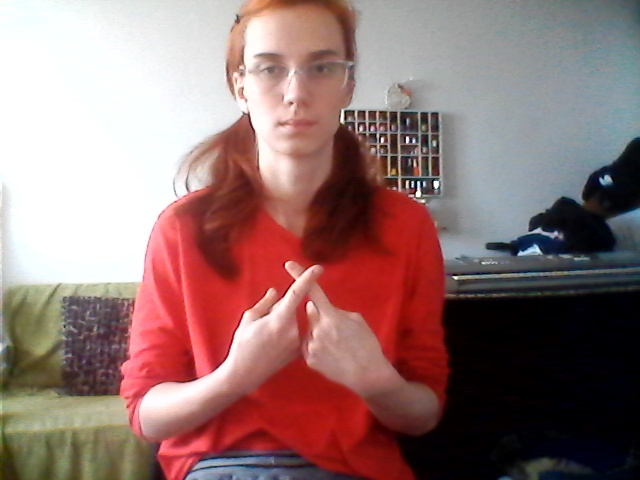x: (212, 253, 396, 411)
